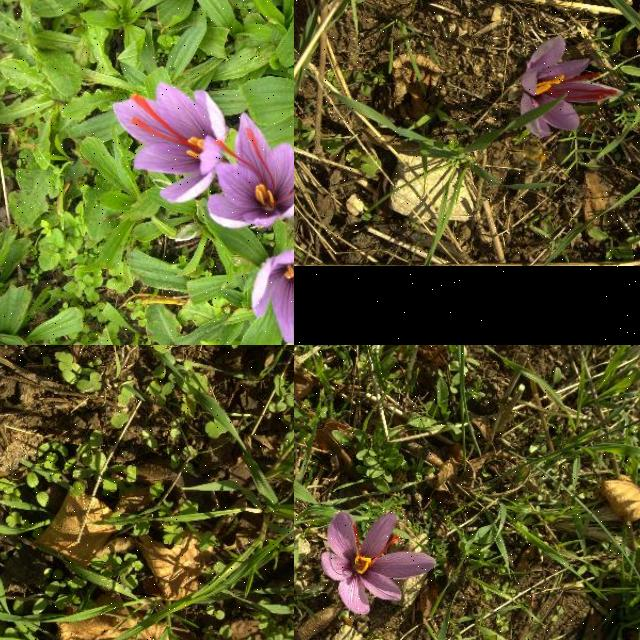flower: (112, 82, 228, 205), (320, 513, 438, 617), (522, 36, 624, 140), (207, 112, 294, 230), (251, 246, 294, 345)
